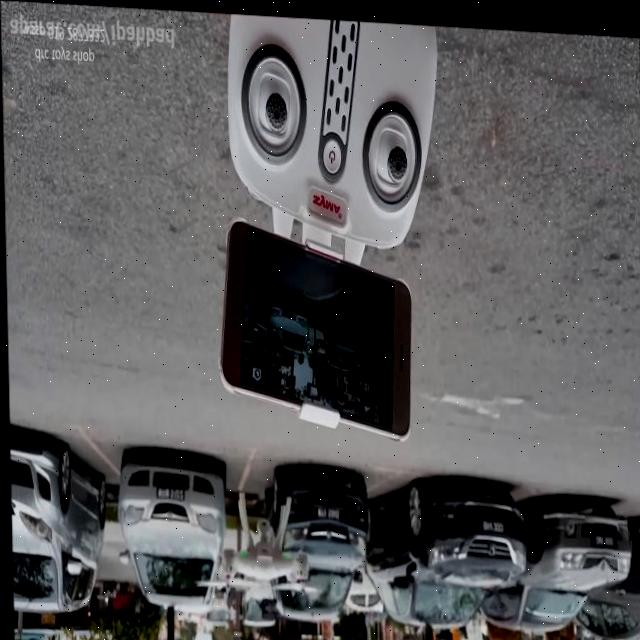drone: (200, 487, 318, 596)
